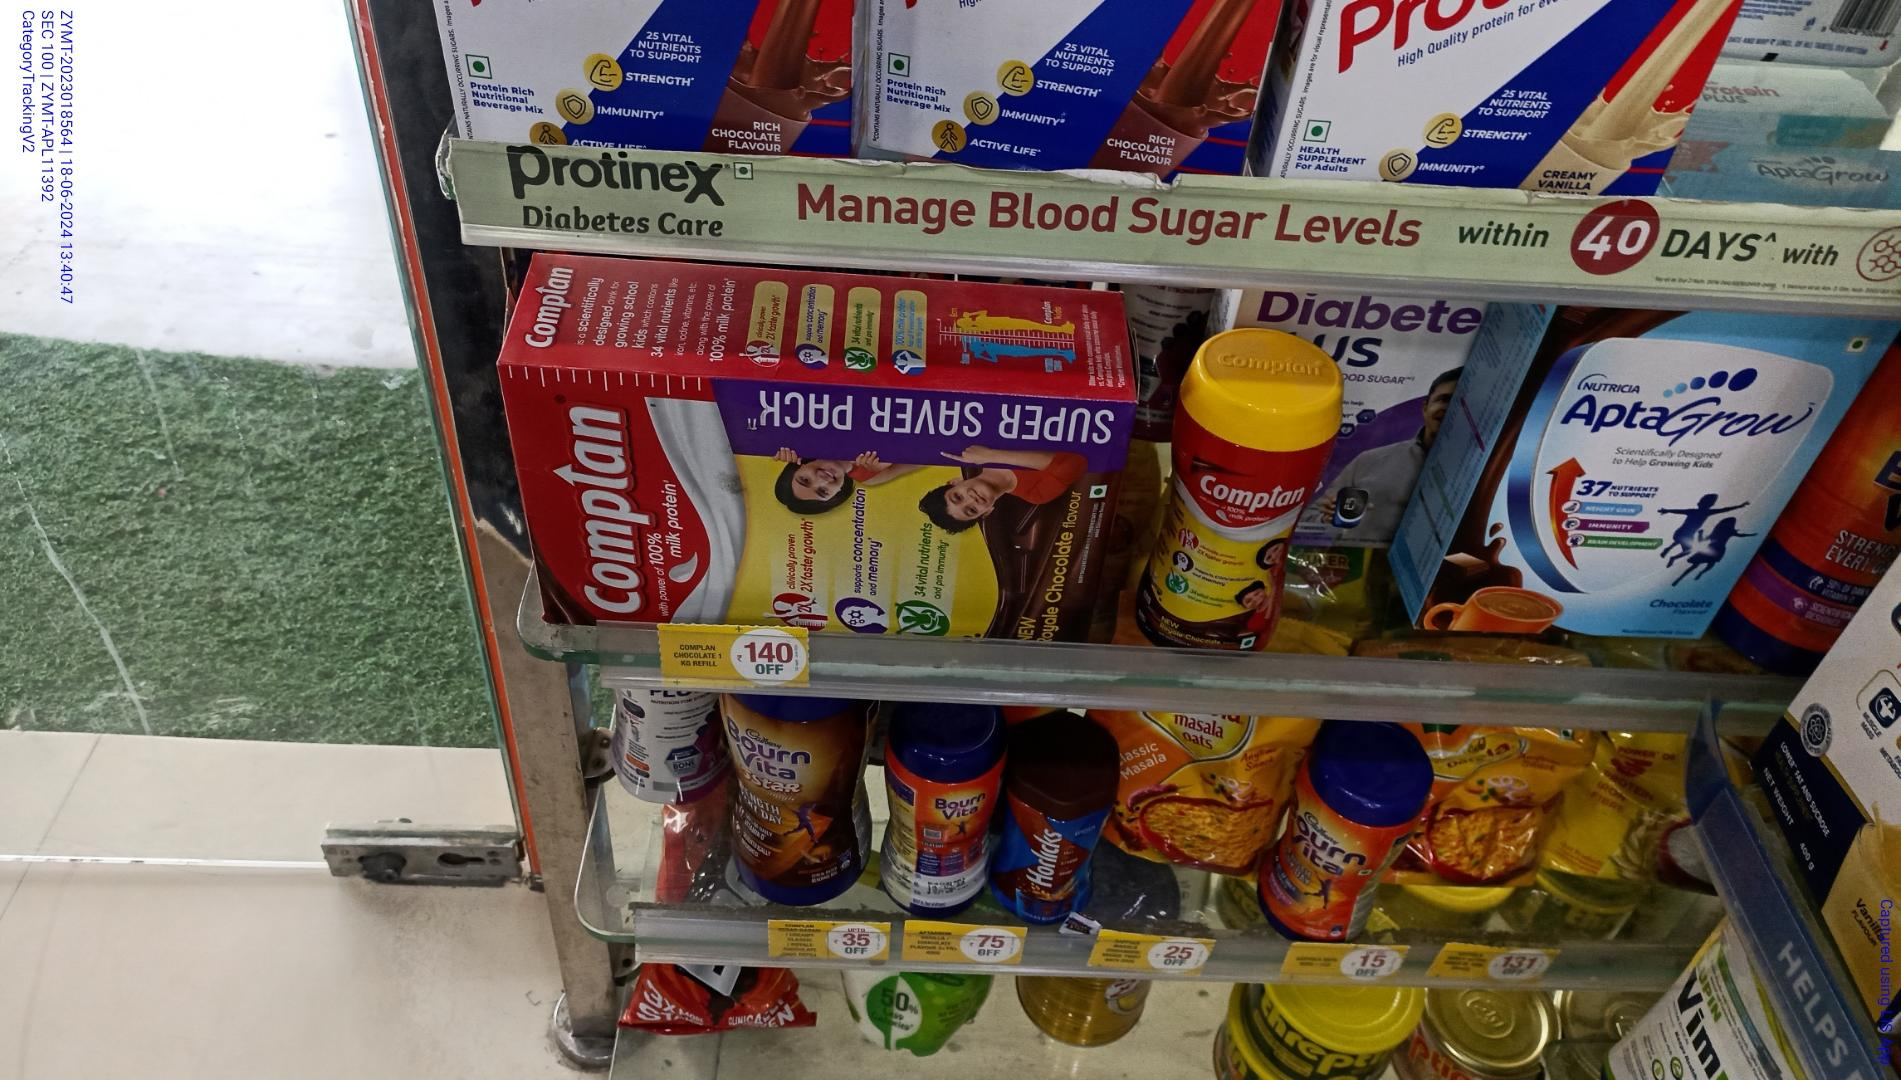BOURN_VITA_FIVE_STAR_MAGIC_500_G_JAR: (722, 683, 871, 904)
COMPLAN_CHOCOLATE_500_GMS_JAR: (1161, 345, 1327, 643)
HORLICK_CHOCOLATE_500_G_JAR: (996, 761, 1098, 923)
